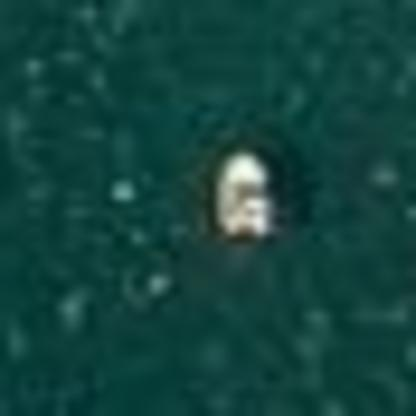ship: (198, 137, 300, 253)
